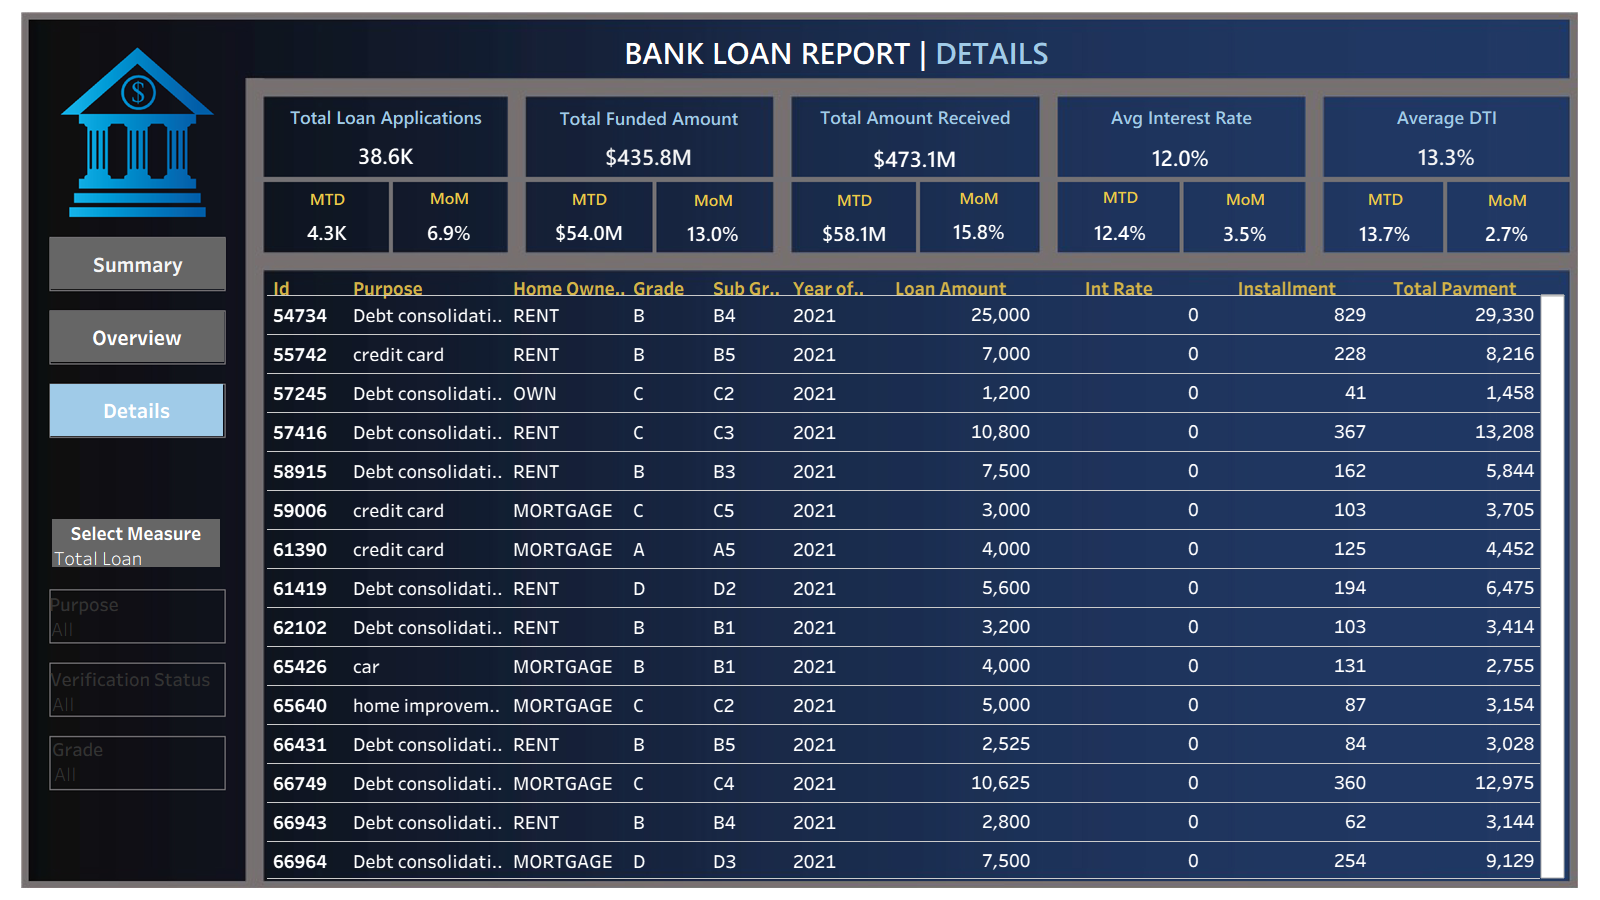

The page's visual inventory and layout, read from the dashboard file:
{"tool":"tableau","page":{"name":"Details","canvas":[1600,900],"ordinal":0},"visuals":[{"type":"image","param":"C:/Users/JOY/Downloads/summary-01.jpg","box":[8,8,1584,884]},{"type":"text","box":[478,32,717,40]},{"type":"worksheet","title":"Total Loan Applications (Overview)","mark":"Automatic","box":[266,99,240,75]},{"type":"worksheet","title":"Total Amount Received (Overview)","mark":"Automatic","box":[793,99,245,80]},{"type":"worksheet","title":"Avg Interest Rate (Overview)","mark":"Automatic","box":[1057,99,249,78]},{"type":"worksheet","title":"Average DTI (Overview)","mark":"Automatic","box":[1325,99,244,77]},{"type":"worksheet","title":"Total Funded Amount (Overview)","mark":"Automatic","box":[528,100,242,75]},{"type":"worksheet","title":"MTD Avg Interest Rate (Overview)","mark":"Automatic","box":[1060,180,121,67]},{"type":"worksheet","title":"MoM Total Loan Applications (Overview)","mark":"Automatic","box":[392,181,115,66]},{"type":"worksheet","title":"MoM Total Amount Received (Overview)","mark":"Automatic","box":[920,181,118,63]},{"type":"worksheet","title":"MTD Total Loan Applications (Overview)","mark":"Automatic","box":[265,182,125,64]},{"type":"worksheet","title":"MTD Total Funded Amount (Overview)","mark":"Automatic","box":[527,182,125,63]},{"type":"worksheet","title":"MoM Average Interest Rate (Overview)","mark":"Automatic","box":[1185,182,121,65]},{"type":"worksheet","title":"MTD Average DTI (Overview)","mark":"Automatic","box":[1326,182,119,65]},{"type":"worksheet","title":"MoM Total Funded Amount (Overview)","mark":"Automatic","box":[656,183,115,63]},{"type":"worksheet","title":"MTD Total Amount Received (Overview)","mark":"Automatic","box":[793,183,123,64]},{"type":"worksheet","title":"MoM Average DTI (Overview)","mark":"Automatic","box":[1447,183,121,63]},{"type":"dashboard-object","box":[50,238,176,51]},{"type":"worksheet","title":"Details Tab","mark":"Automatic","rows":["id","purpose","home_ownership","grade","sub_grade","issue_date"],"box":[267,275,1298,604]},{"type":"dashboard-object","box":[50,311,174,51]},{"type":"dashboard-object","box":[50,384,173,52]},{"type":"parameter","param":"[Parameters].[Parameter 2]","box":[52,519,168,48]},{"type":"filter","title":"Average DTI (Overview)","param":"[federated.02bapp10spx5te19axciv0uohof1].[none:purpose:nk]","box":[49,590,175,55]},{"type":"filter","title":"Average DTI (Overview)","param":"[federated.02bapp10spx5te19axciv0uohof1].[none:verification_status:nk]","box":[50,665,176,49]},{"type":"filter","title":"Average DTI (Overview)","param":"[federated.02bapp10spx5te19axciv0uohof1].[none:grade:nk]","box":[52,735,173,53]}]}

Visuals, with their boxes in screenshot pixels (x1, y1, x2, y2), scaled from the page's 1600x900 canvas onto the 1600x900 screenshot:
image: box=[8, 8, 1592, 892]
text: box=[478, 32, 1195, 72]
"Total Loan Applications (Overview)" worksheet: box=[266, 99, 506, 174]
"Total Amount Received (Overview)" worksheet: box=[793, 99, 1038, 179]
"Avg Interest Rate (Overview)" worksheet: box=[1057, 99, 1306, 177]
"Average DTI (Overview)" worksheet: box=[1325, 99, 1569, 176]
"Total Funded Amount (Overview)" worksheet: box=[528, 100, 770, 175]
"MTD Avg Interest Rate (Overview)" worksheet: box=[1060, 180, 1181, 247]
"MoM Total Loan Applications (Overview)" worksheet: box=[392, 181, 507, 247]
"MoM Total Amount Received (Overview)" worksheet: box=[920, 181, 1038, 244]
"MTD Total Loan Applications (Overview)" worksheet: box=[265, 182, 390, 246]
"MTD Total Funded Amount (Overview)" worksheet: box=[527, 182, 652, 245]
"MoM Average Interest Rate (Overview)" worksheet: box=[1185, 182, 1306, 247]
"MTD Average DTI (Overview)" worksheet: box=[1326, 182, 1445, 247]
"MoM Total Funded Amount (Overview)" worksheet: box=[656, 183, 771, 246]
"MTD Total Amount Received (Overview)" worksheet: box=[793, 183, 916, 247]
"MoM Average DTI (Overview)" worksheet: box=[1447, 183, 1568, 246]
dashboard-object: box=[50, 238, 226, 289]
"Details Tab" worksheet: box=[267, 275, 1565, 879]
dashboard-object: box=[50, 311, 224, 362]
dashboard-object: box=[50, 384, 223, 436]
parameter: box=[52, 519, 220, 567]
"Average DTI (Overview)" filter: box=[49, 590, 224, 645]
"Average DTI (Overview)" filter: box=[50, 665, 226, 714]
"Average DTI (Overview)" filter: box=[52, 735, 225, 788]
